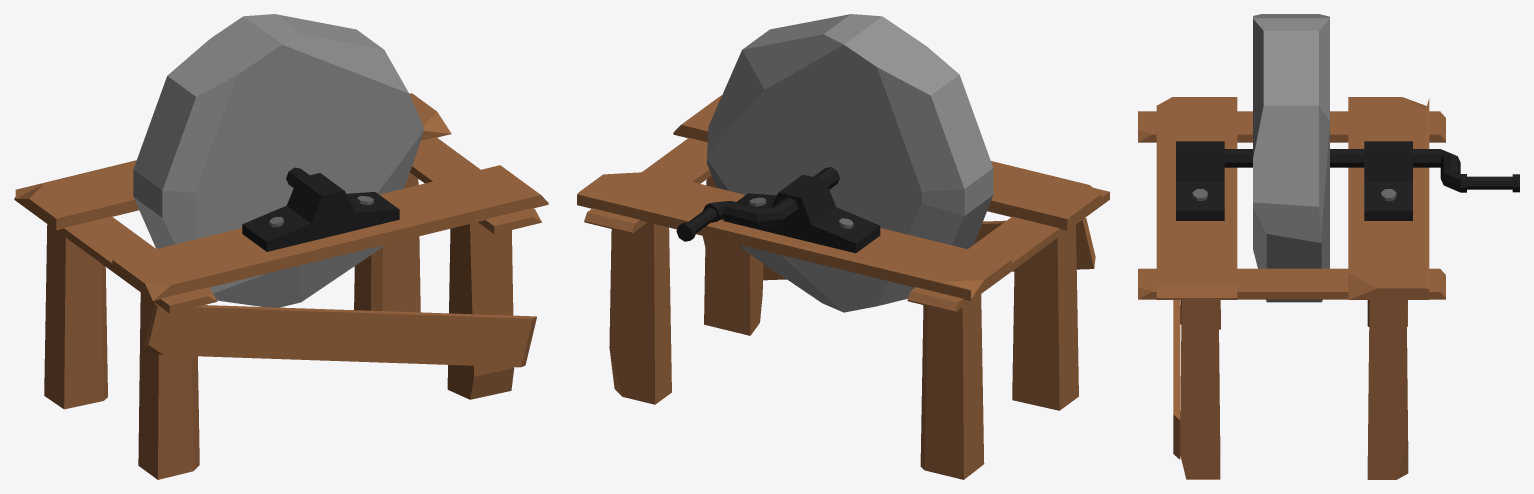
The model's file is Grindstone.fbx.
The picture shows the model from 3 angles, left to right: view 1: azimuth 30°, elevation 25°; view 2: azimuth 150°, elevation 25°; view 3: azimuth 270°, elevation 25°; orthographic projection.
Parts seen in each view (by area): view 1: Cylinder.008; view 2: Cylinder.008; view 3: Cylinder.008.
Boxes of the visible parts, x1,y1,x2,y2 form: Cylinder.008: (14, 14, 548, 479); Cylinder.008: (577, 14, 1109, 479); Cylinder.008: (1138, 14, 1519, 479).
Bounding box in the file's own units: 94.82 × 84.61 × 79.89.
